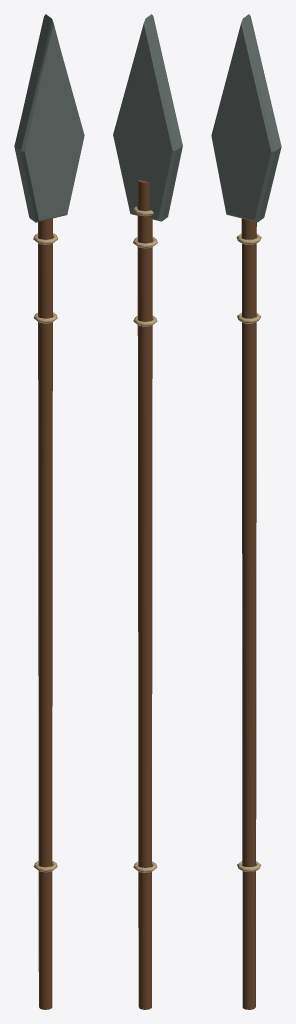
File: stone_fisher.glb
3 views of the same model, side by side, from view 1: azimuth 30°, elevation 25°; view 2: azimuth 150°, elevation 25°; view 3: azimuth 330°, elevation 25° (orthographic).
Visible parts, largest first — view 1: part_0, part_2, part_1; view 2: part_0, part_2, part_1; view 3: part_0, part_2, part_1.
Boxes of the visible parts, bbox=[...] form: part_0: bbox=[38, 218, 52, 1009]; part_2: bbox=[14, 14, 84, 222]; part_1: bbox=[33, 233, 57, 872]; part_0: bbox=[137, 179, 152, 1009]; part_2: bbox=[113, 14, 182, 221]; part_1: bbox=[133, 206, 157, 872]; part_0: bbox=[241, 218, 256, 1009]; part_2: bbox=[211, 14, 281, 222]; part_1: bbox=[236, 233, 261, 871].
Size of the model in its own units: 0.0805 by 1.19 by 0.0313.
